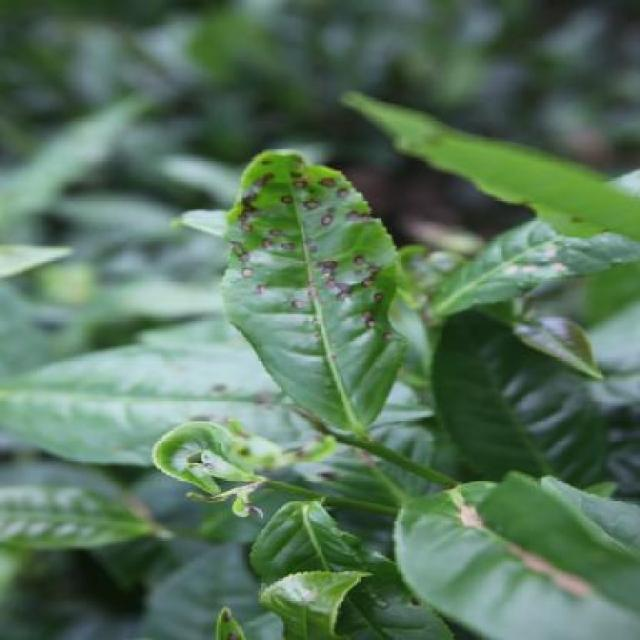Tea Mosquito bug infested leaf: (192, 133, 377, 450)
